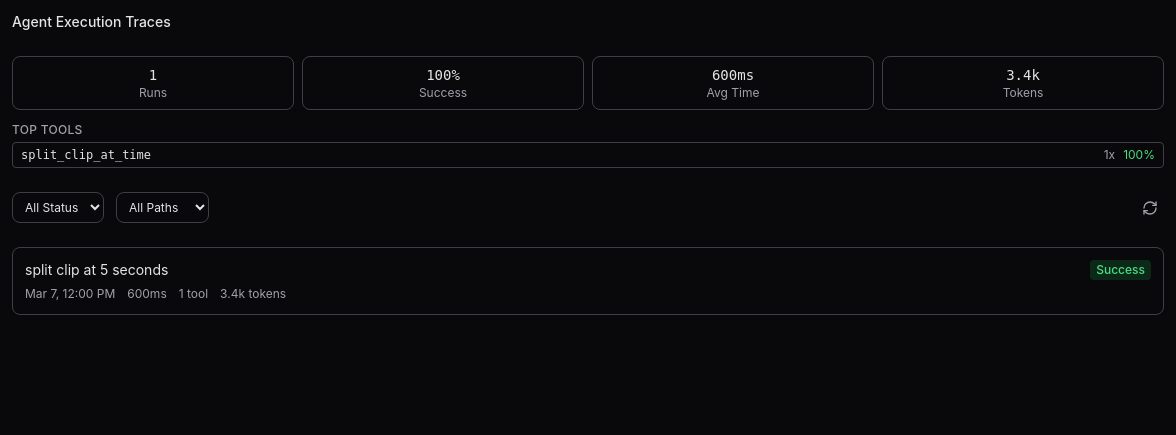
Test case: DeveloperSettings › should show trace detail view when a trace is clicked
Step 1. Click the text "split clip at 5 seconds" → (97, 270), box [25, 260, 168, 280]
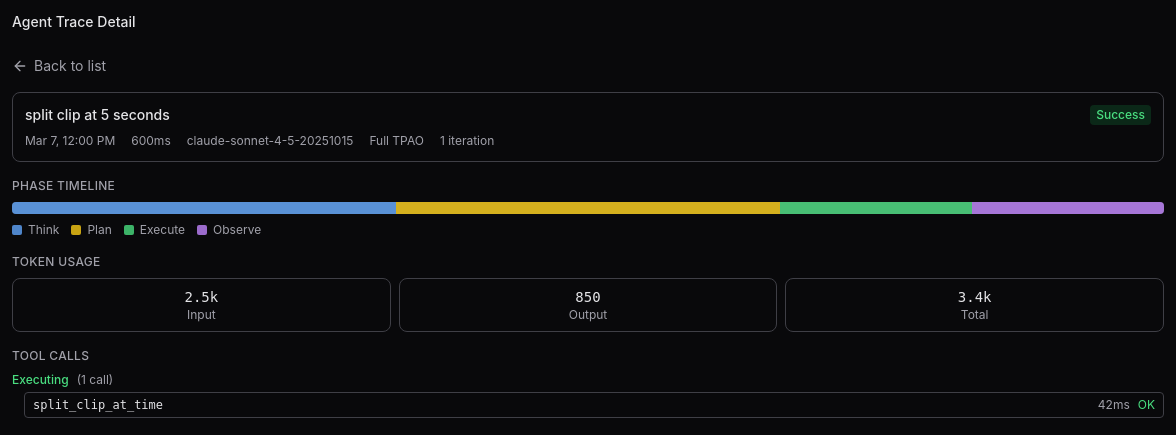
Expected: the heading "Phase Timeline" is shown, [12, 178, 115, 193]
Expected: the heading "Token Usage" is shown, [12, 254, 101, 269]
Expected: the heading "Tool Calls" is shown, [12, 348, 89, 363]
